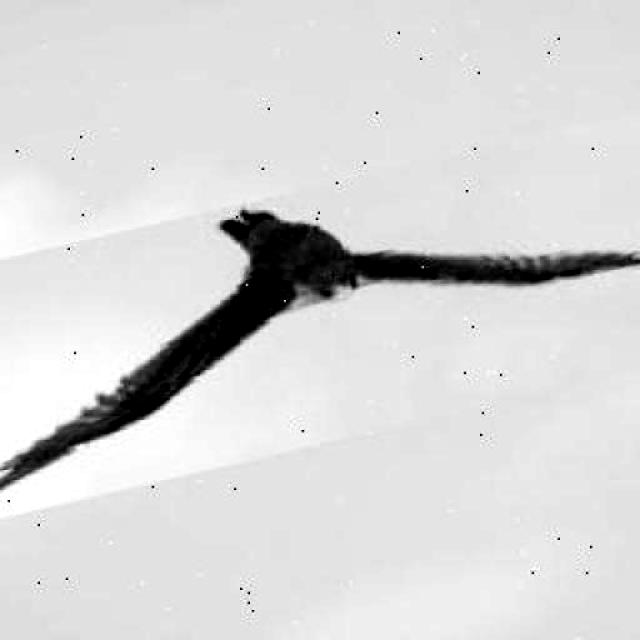airplane: (0, 99, 640, 532)
